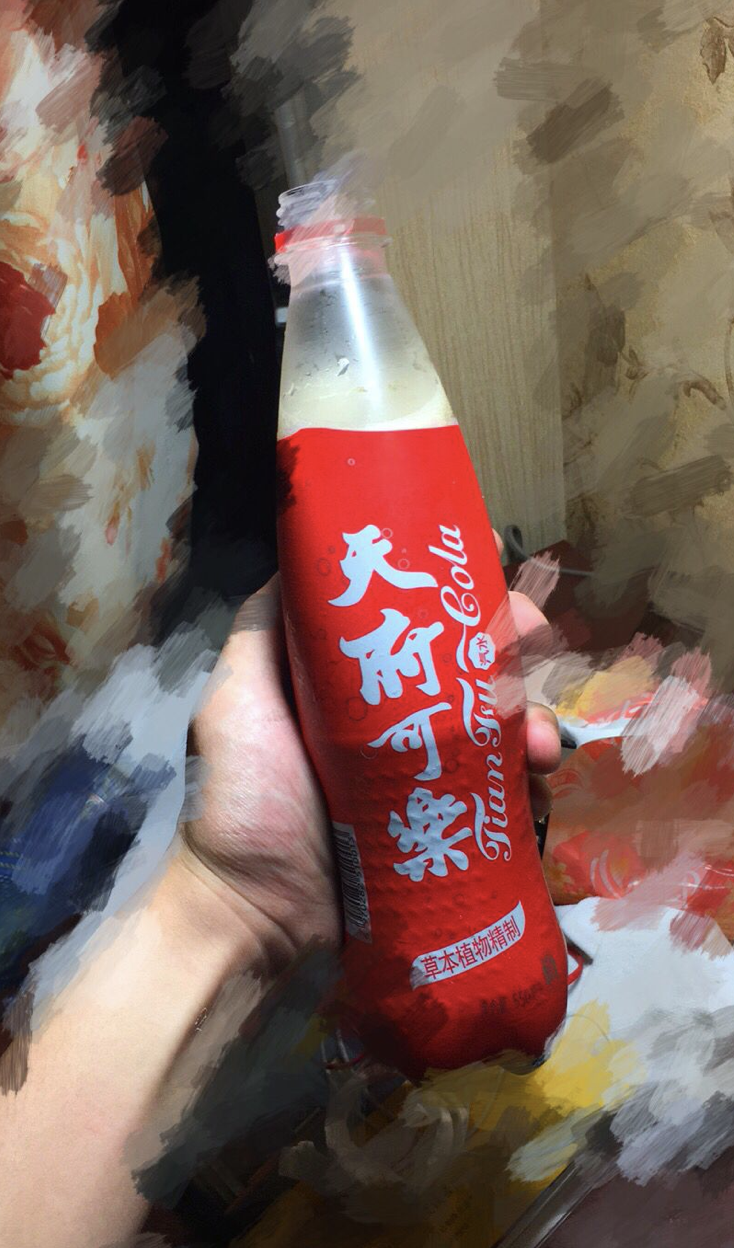天府可乐: (234, 164, 582, 1098)
